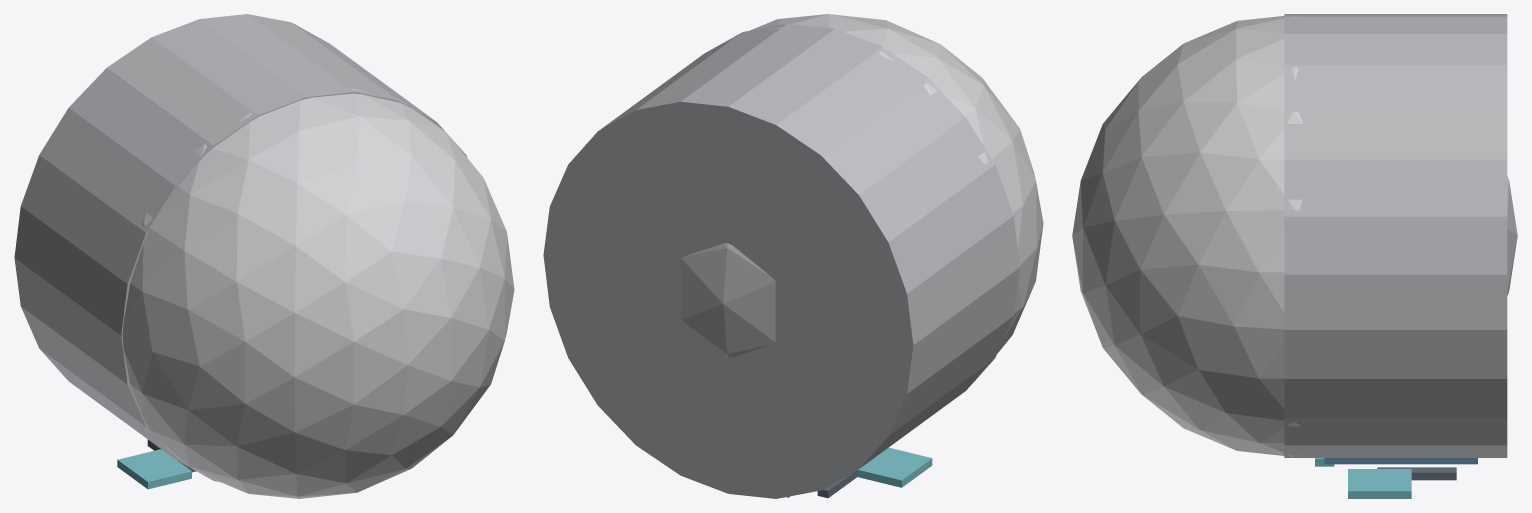
The model's file is habitat_module.glb.
The picture shows the model from 3 angles, left to right: view 1: azimuth 30°, elevation 25°; view 2: azimuth 150°, elevation 25°; view 3: azimuth 270°, elevation 25°; orthographic projection. The views are drawn at different scales.
Parts seen in each view (by area): view 1: habitat_module_1, habitat_module_0, habitat_module_6; view 2: habitat_module_0, habitat_module_1, habitat_module_6; view 3: habitat_module_0, habitat_module_1, habitat_module_7, habitat_module_2, habitat_module_5.
Part boxes in pixels (<box>): habitat_module_1: <box>122,88,514,498</box>; habitat_module_0: <box>14,14,467,481</box>; habitat_module_6: <box>117,449,191,489</box>; habitat_module_0: <box>543,23,1019,498</box>; habitat_module_1: <box>681,14,1043,380</box>; habitat_module_6: <box>857,447,932,487</box>; habitat_module_0: <box>1284,14,1507,457</box>; habitat_module_1: <box>1072,15,1517,456</box>; habitat_module_7: <box>1348,469,1411,498</box>; habitat_module_2: <box>1324,458,1477,464</box>; habitat_module_5: <box>1377,467,1456,480</box>.
Size of the model in its own units: 4.2 by 4.29 by 4.2.
